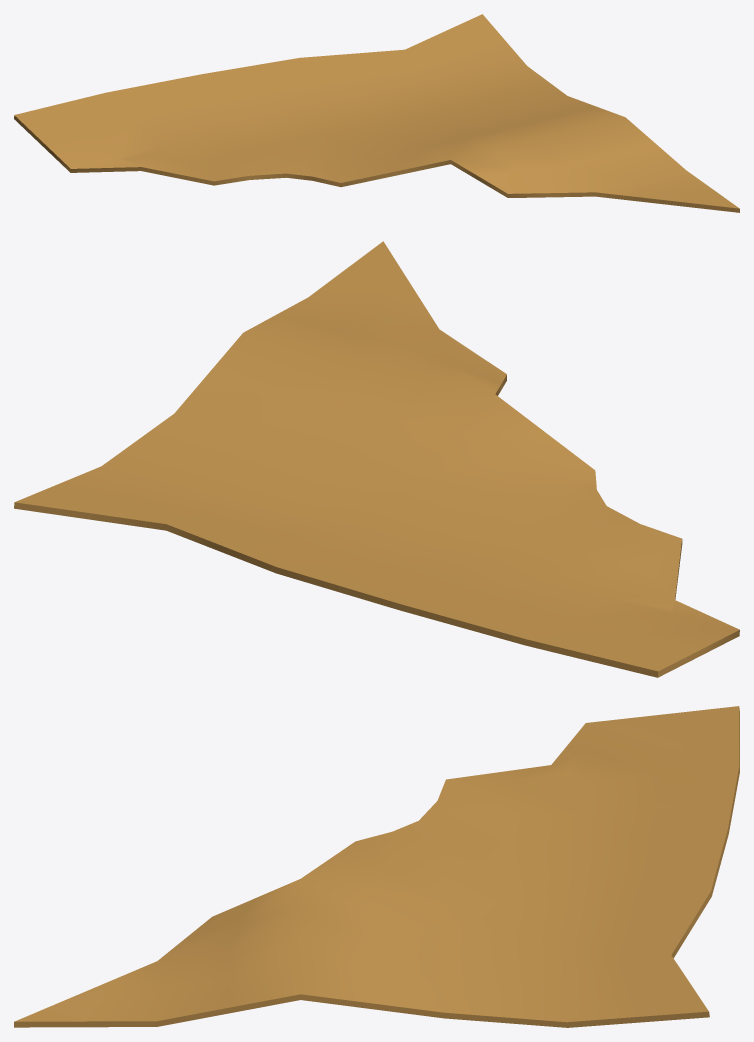
Rendered from cardboard1_top.fbx.
The picture shows the model from 3 angles, top to bottom: view 1: azimuth 30°, elevation 25°; view 2: azimuth 150°, elevation 25°; view 3: azimuth 270°, elevation 25°; orthographic projection. The views are drawn at different scales.
Parts seen in each view (by area): view 1: Top; view 2: Top; view 3: Top.
Boxes of the visible parts, box(x1,y1,x2,y2) form: Top: box(14, 14, 739, 212); Top: box(14, 241, 739, 677); Top: box(14, 706, 739, 1027).
Bounding box in the file's own units: 15.18 × 0.8271 × 15.37.
